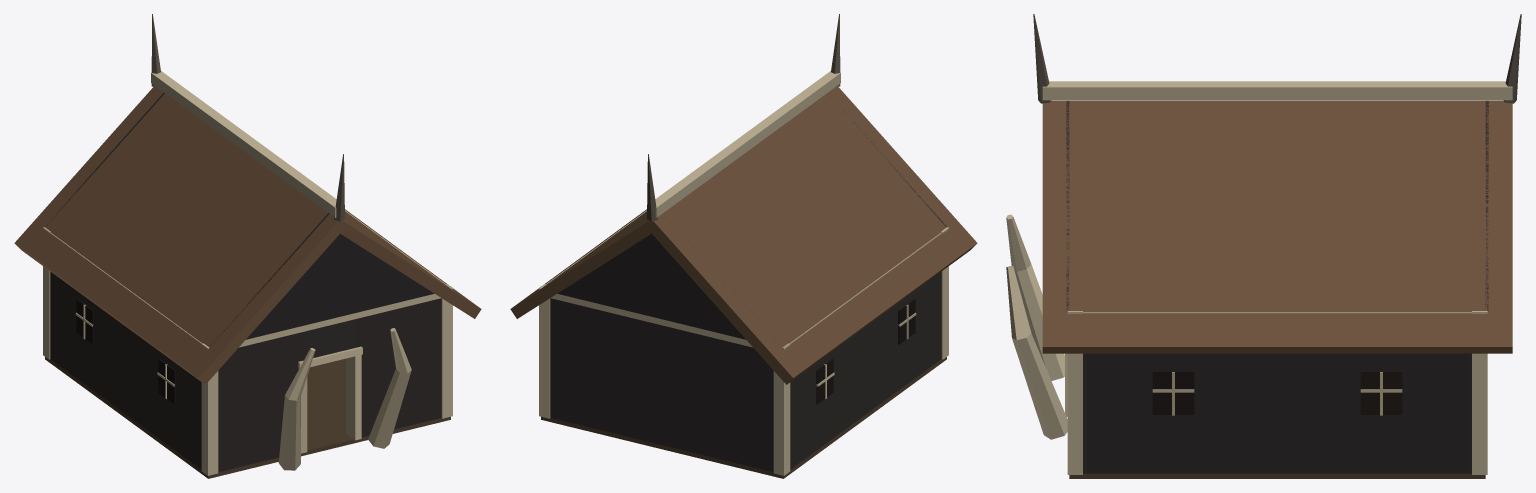
The model's file is walk_ashen_house.glb.
The picture shows the model from 3 angles, left to right: view 1: azimuth 30°, elevation 25°; view 2: azimuth 150°, elevation 25°; view 3: azimuth 270°, elevation 25°; orthographic projection. The views are drawn at different scales.
Visible parts, largest first — view 1: walk_ashen_house_roof, walk_ashen_house; view 2: walk_ashen_house_roof, walk_ashen_house; view 3: walk_ashen_house_roof, walk_ashen_house.
Part boxes in pixels (x1=…): walk_ashen_house_roof: x1=14, y1=14, x2=481, y2=384; walk_ashen_house: x1=43, y1=210, x2=452, y2=478; walk_ashen_house_roof: x1=510, y1=14, x2=977, y2=384; walk_ashen_house: x1=539, y1=210, x2=948, y2=478; walk_ashen_house_roof: x1=1033, y1=14, x2=1521, y2=353; walk_ashen_house: x1=1006, y1=214, x2=1487, y2=478.
Size of what is drawn, in the model's own units: 7 by 7.29 by 8.66.
Materials: 2 (2 with a texture image).
